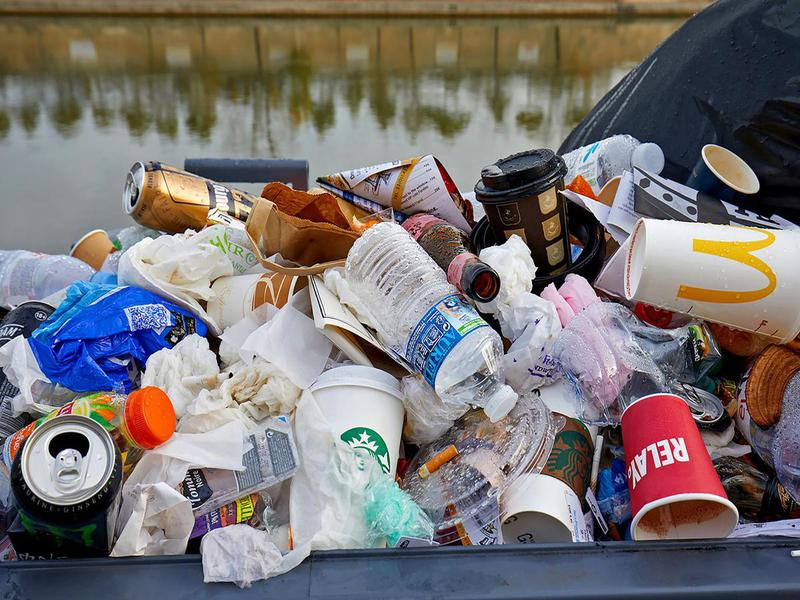bottle: (341, 222, 527, 421)
can: (4, 412, 126, 561), (118, 159, 261, 232)
cup: (619, 212, 800, 338), (617, 393, 739, 540), (474, 149, 580, 279)
paper: (313, 143, 477, 232)
plastic: (16, 240, 228, 404), (271, 404, 437, 551)
